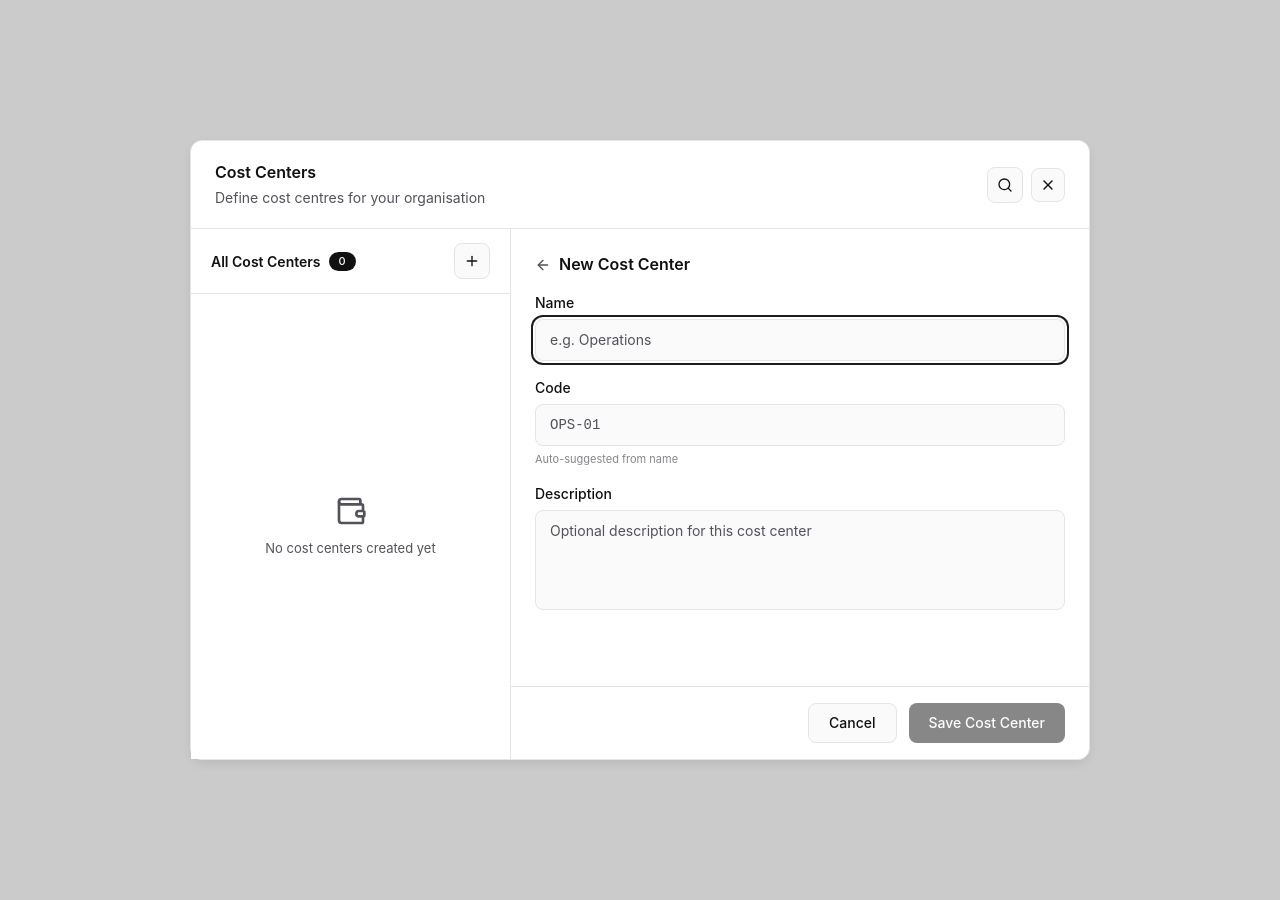
Scenario: CostCenterModal › shows search modal when search button clicked
Step 1. Click the button named "Search cost centers" → click(1005, 185), box x1=987 y1=167 x2=1023 y2=203
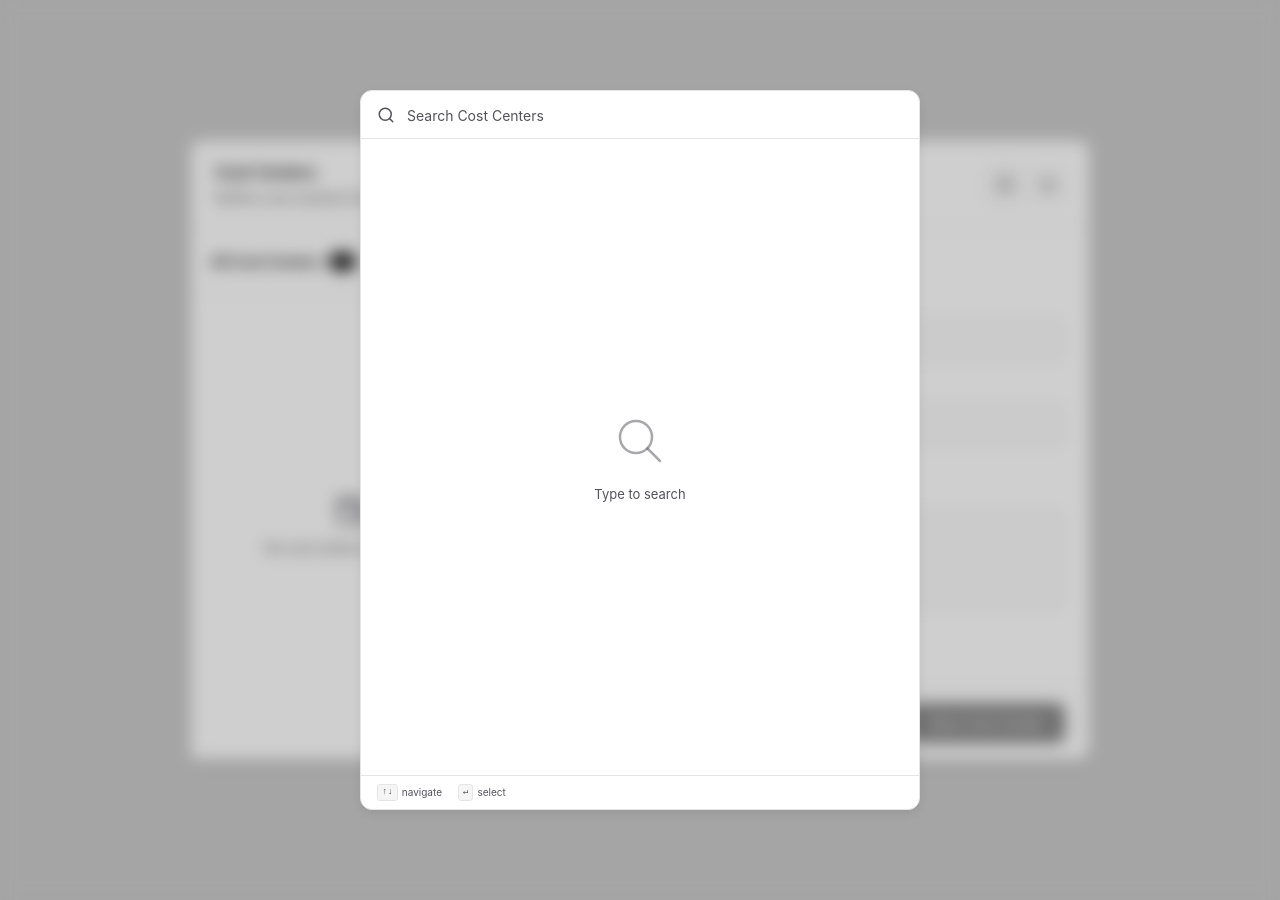
Now the element with test id "spotlight-search" is shown, box x1=360 y1=90 x2=920 y2=810
